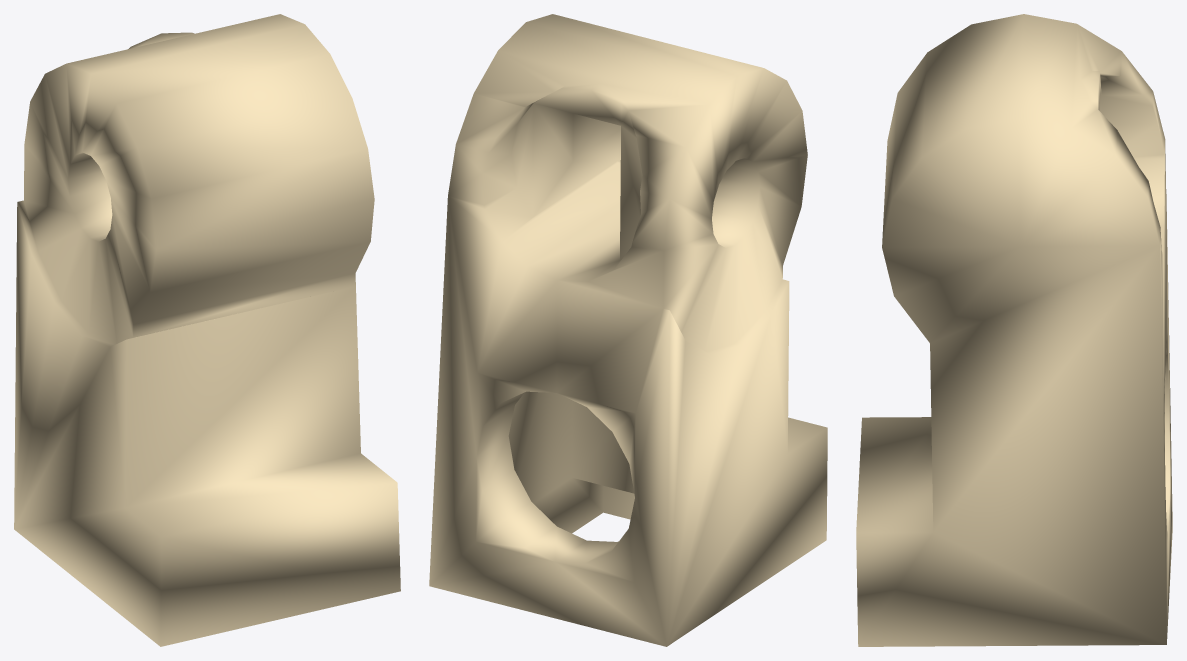
The model's file is piernaIzq.obj.
3 views of the same model, side by side, from view 1: azimuth 30°, elevation 25°; view 2: azimuth 150°, elevation 25°; view 3: azimuth 270°, elevation 25° (orthographic).
Parts seen in each view (by area): view 1: piernaIzqBart; view 2: piernaIzqBart; view 3: piernaIzqBart.
Part boxes in pixels (x1,y1,x2,y2): piernaIzqBart: (14,14,400,646); piernaIzqBart: (429,14,827,646); piernaIzqBart: (856,14,1172,646).
Bounding box in the file's own units: 1.1 × 2.23 × 1.23.
1 material, 1 textured.
